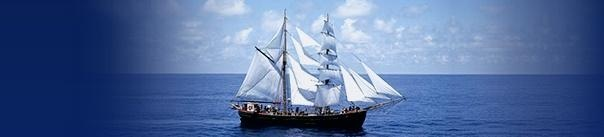fanchuan: (230, 16, 402, 125)
